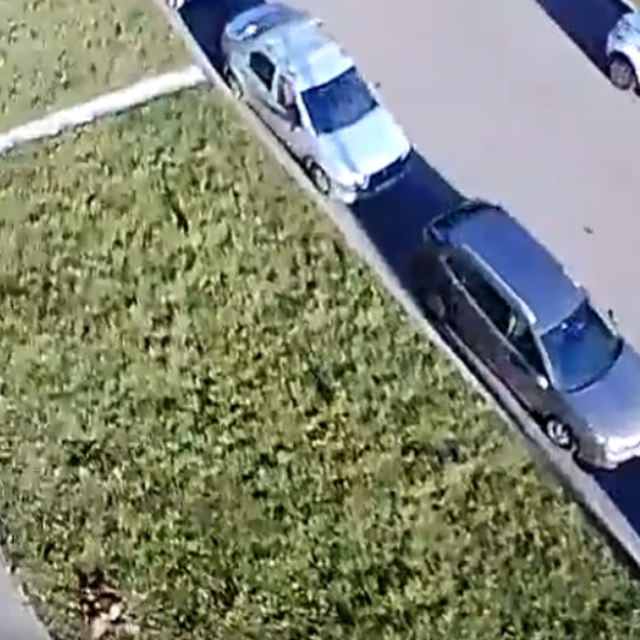car: (419, 196, 640, 470), (217, 2, 416, 200)
